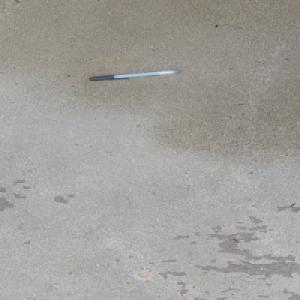Pen: (88, 68, 180, 81)
